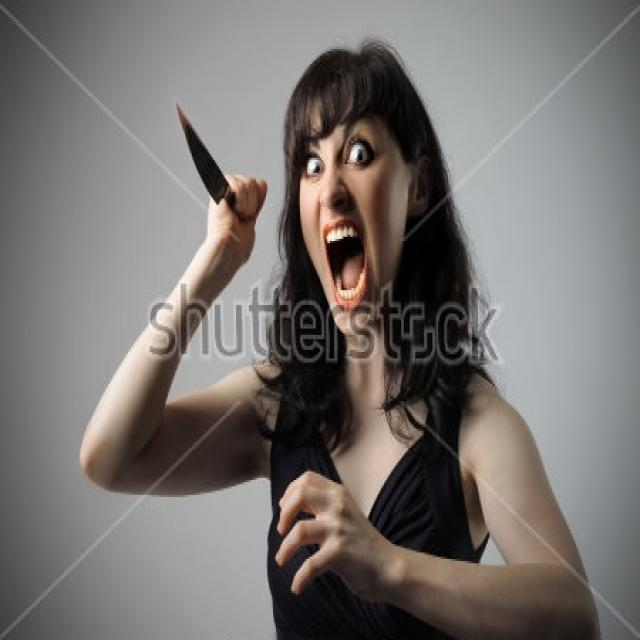knife: (172, 97, 237, 211)
